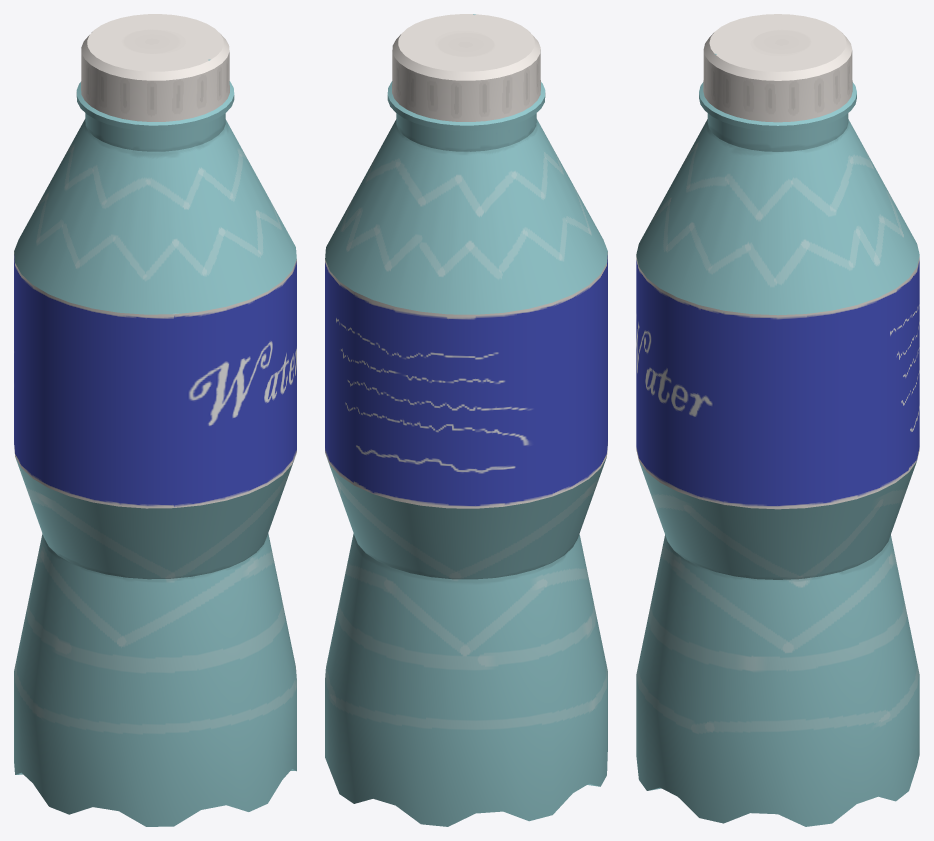
File: waterbottle.fbx
The picture shows the model from 3 angles, left to right: view 1: azimuth 30°, elevation 25°; view 2: azimuth 150°, elevation 25°; view 3: azimuth 270°, elevation 25°; orthographic projection.
Visible parts, largest first — view 1: Cylinder; view 2: Cylinder; view 3: Cylinder.
Boxes of the visible parts, box(x1,y1,x2,y2) form: Cylinder: box(14, 14, 296, 826); Cylinder: box(325, 14, 607, 826); Cylinder: box(636, 14, 919, 826).
Bounding box in the file's own units: 200 × 564 × 200.
